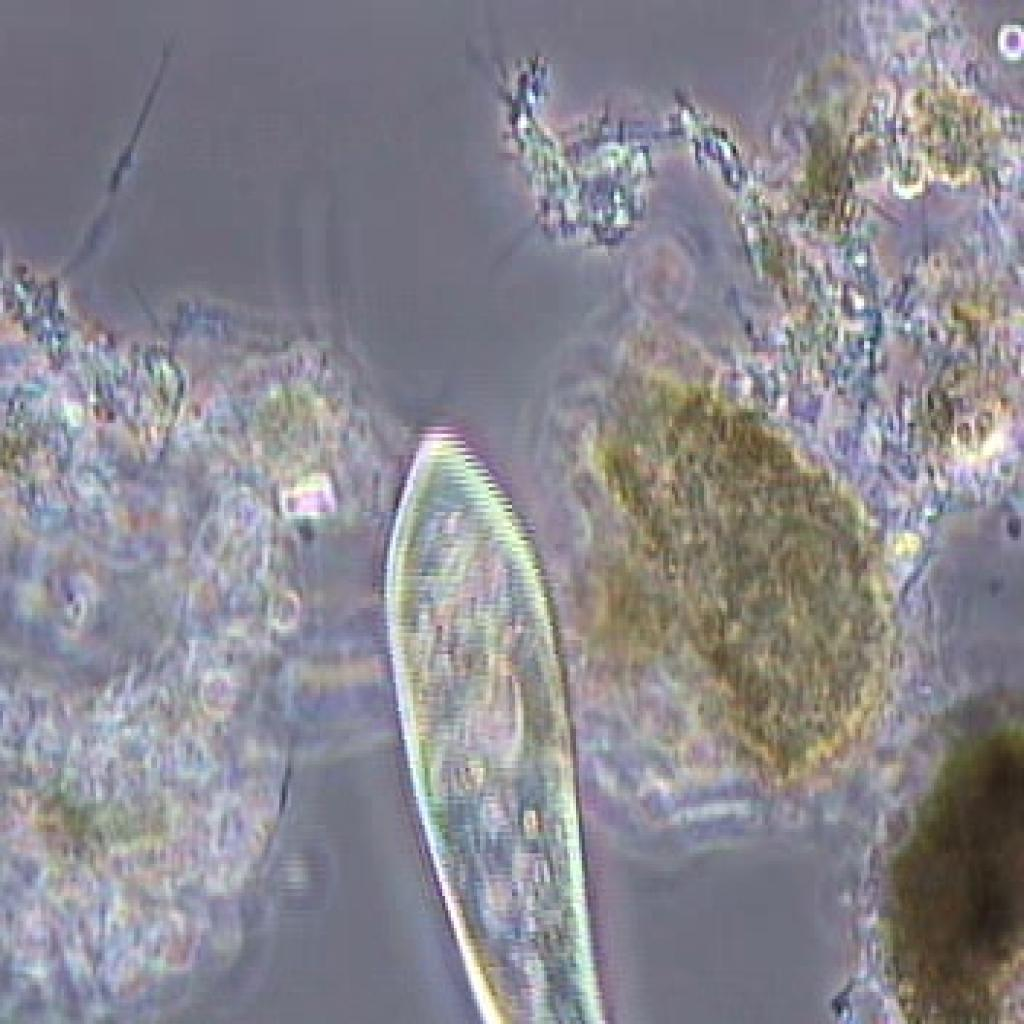Paramecium: (351, 416, 618, 1024)
